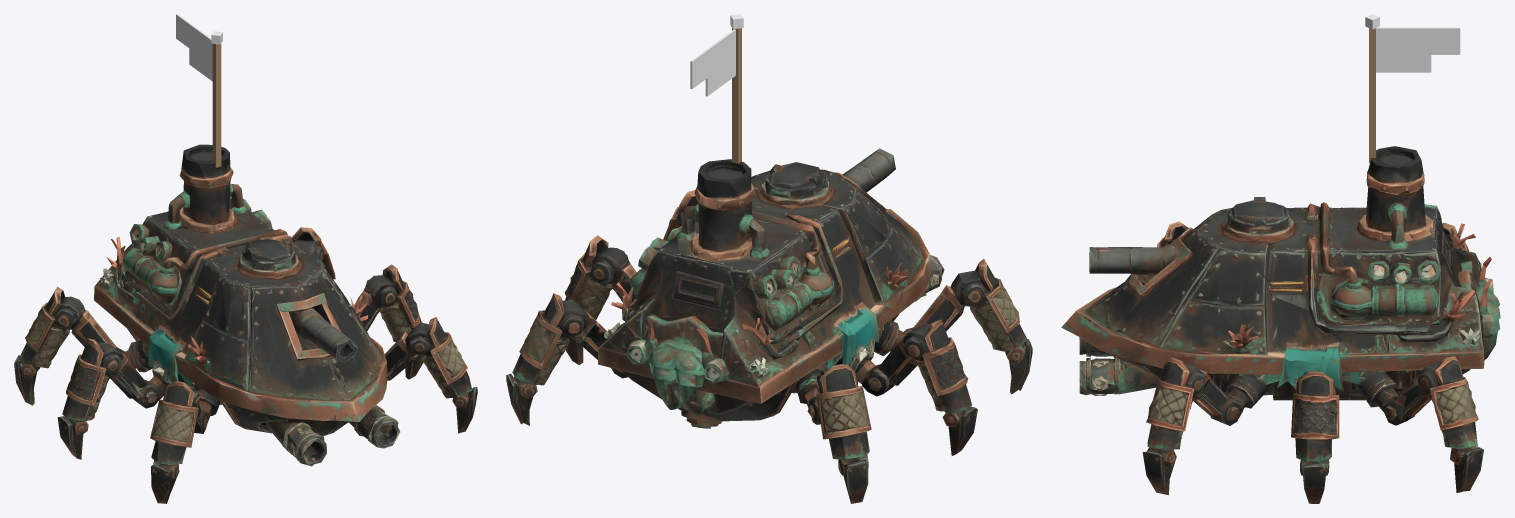
Rendered from tide_ironclad.glb.
3 renders of one model, left to right at view 1: azimuth 30°, elevation 25°; view 2: azimuth 150°, elevation 25°; view 3: azimuth 270°, elevation 25°, orthographic. The views are drawn at different scales.
Parts seen in each view (by area): view 1: tide_ironclad, Team_pennant; view 2: tide_ironclad, Team_pennant; view 3: tide_ironclad, Team_pennant.
Boxes of the visible parts, <box> form: tide_ironclad: <box>14,144,477,503</box>; Team_pennant: <box>176,14,222,167</box>; tide_ironclad: <box>506,148,1032,503</box>; Team_pennant: <box>690,14,743,163</box>; tide_ironclad: <box>1061,146,1500,503</box>; Team_pennant: <box>1365,14,1460,163</box>.
Size of the model in its own units: 1.89 by 1.82 by 1.82.
Materials: 3 (1 with a texture image).
